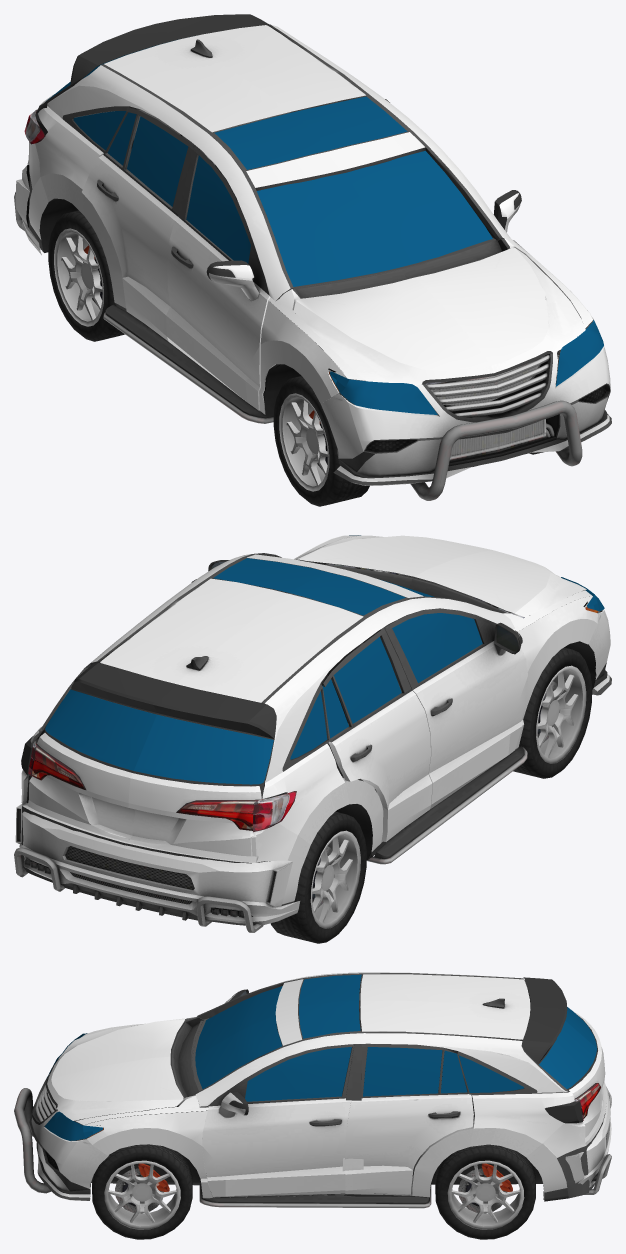
Rendered from Car6.fbx.
3 renders of one model, top to bottom at view 1: azimuth 30°, elevation 25°; view 2: azimuth 150°, elevation 25°; view 3: azimuth 270°, elevation 25°, orthographic. The views are drawn at different scales.
Parts seen in each view (by area): view 1: DC3_SUV_2_Roof, DC3_SUV_2_Hood, DC3_SUV_2_Bumper_F_3, DC3_SUV_2_Window_F_Glass, Body, DC3_SUV_2_Door_FR, DC3_SUV_2_Door_BR, DC3_SUV_2_Window_Roof_Glass, wing_1, DC3_SUV_2_Trunk, DC3_SUV_2_Window_BR_Glass, DC3_SUV_2_Window_FR_Glass_ (+12 smaller); view 2: DC3_SUV_2_Roof, DC3_SUV_2_Trunk, DC3_SUV_2_Bumper_B_3, Body, DC3_SUV_2_Door_FR, DC3_SUV_2_Window_Trunk, DC3_SUV_2_Hood, DC3_SUV_2_Door_BR, DC3_SUV_2_Window_Roof_Glass, DC3_SUV_2_Window_BR_Glass, DC3_SUV_2_Window_FR_Glass_, Tire_1 (+10 smaller); view 3: DC3_SUV_2_Roof, Body, DC3_SUV_2_Door_FR__1_, DC3_SUV_2_Hood, DC3_SUV_2_Door_BL, DC3_SUV_2_Bumper_F_3, DC3_SUV_2_Window_F_Glass, DC3_SUV_2_Window_BL_Glass, wing, DC3_SUV_2_Trunk, DC3_SUV_2_Window_FR_Glass__1, Tire_3 (+13 smaller).
Boxes of the visible parts, box(x1,y1,x2,y2) form: DC3_SUV_2_Roof: box(47, 24, 510, 301); DC3_SUV_2_Hood: box(293, 248, 585, 384); DC3_SUV_2_Bumper_F_3: box(321, 345, 611, 500); DC3_SUV_2_Window_F_Glass: box(257, 150, 492, 286); Body: box(28, 99, 593, 456); DC3_SUV_2_Door_FR: box(166, 145, 270, 410); DC3_SUV_2_Door_BR: box(82, 107, 193, 341); DC3_SUV_2_Window_Roof_Glass: box(214, 96, 407, 169); wing_1: box(259, 300, 346, 414); DC3_SUV_2_Trunk: box(27, 14, 269, 164); DC3_SUV_2_Window_BR_Glass: box(107, 112, 188, 206); DC3_SUV_2_Window_FR_Glass_: box(186, 155, 250, 263); DC3_SUV_2_Roof: box(41, 553, 514, 782); DC3_SUV_2_Trunk: box(27, 662, 276, 862); DC3_SUV_2_Bumper_B_3: box(14, 804, 300, 932); Body: box(21, 535, 602, 925); DC3_SUV_2_Door_FR: box(384, 608, 527, 809); DC3_SUV_2_Window_Trunk: box(45, 689, 273, 784); DC3_SUV_2_Hood: box(296, 535, 586, 617); DC3_SUV_2_Door_BR: box(323, 628, 432, 841); DC3_SUV_2_Window_Roof_Glass: box(213, 558, 405, 615); DC3_SUV_2_Window_BR_Glass: box(322, 637, 401, 738); DC3_SUV_2_Window_FR_Glass_: box(392, 613, 482, 682); Tire_1: box(270, 811, 366, 943); DC3_SUV_2_Roof: box(195, 972, 568, 1106); Body: box(70, 980, 606, 1201); DC3_SUV_2_Door_FR__1_: box(202, 1044, 360, 1196); DC3_SUV_2_Hood: box(45, 1018, 184, 1120); DC3_SUV_2_Door_BL: box(345, 1043, 473, 1194); DC3_SUV_2_Bumper_F_3: box(14, 1075, 108, 1200); DC3_SUV_2_Window_F_Glass: box(195, 986, 282, 1088); DC3_SUV_2_Window_BL_Glass: box(363, 1047, 467, 1096); wing: box(84, 1111, 212, 1198); DC3_SUV_2_Trunk: box(522, 977, 605, 1142); DC3_SUV_2_Window_FR_Glass__1: box(245, 1047, 351, 1101); Tire_3: box(435, 1144, 535, 1239).
Bounding box in the file's own units: 297 × 234 × 647.
